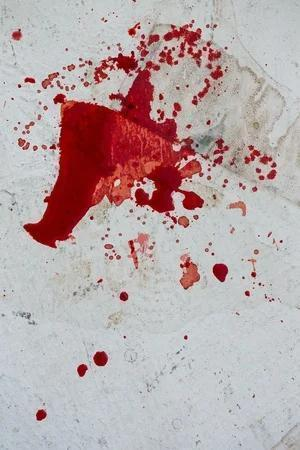Fire: (24, 63, 204, 248), (2, 21, 154, 106), (146, 23, 223, 78), (7, 96, 66, 162), (191, 47, 229, 106), (245, 258, 277, 304), (244, 145, 278, 181), (126, 233, 156, 270), (180, 254, 201, 290), (216, 138, 231, 166), (166, 212, 190, 228), (106, 243, 123, 260), (213, 264, 229, 282), (94, 352, 108, 366), (77, 365, 88, 378), (36, 410, 47, 422), (119, 292, 129, 302), (194, 215, 199, 220)
